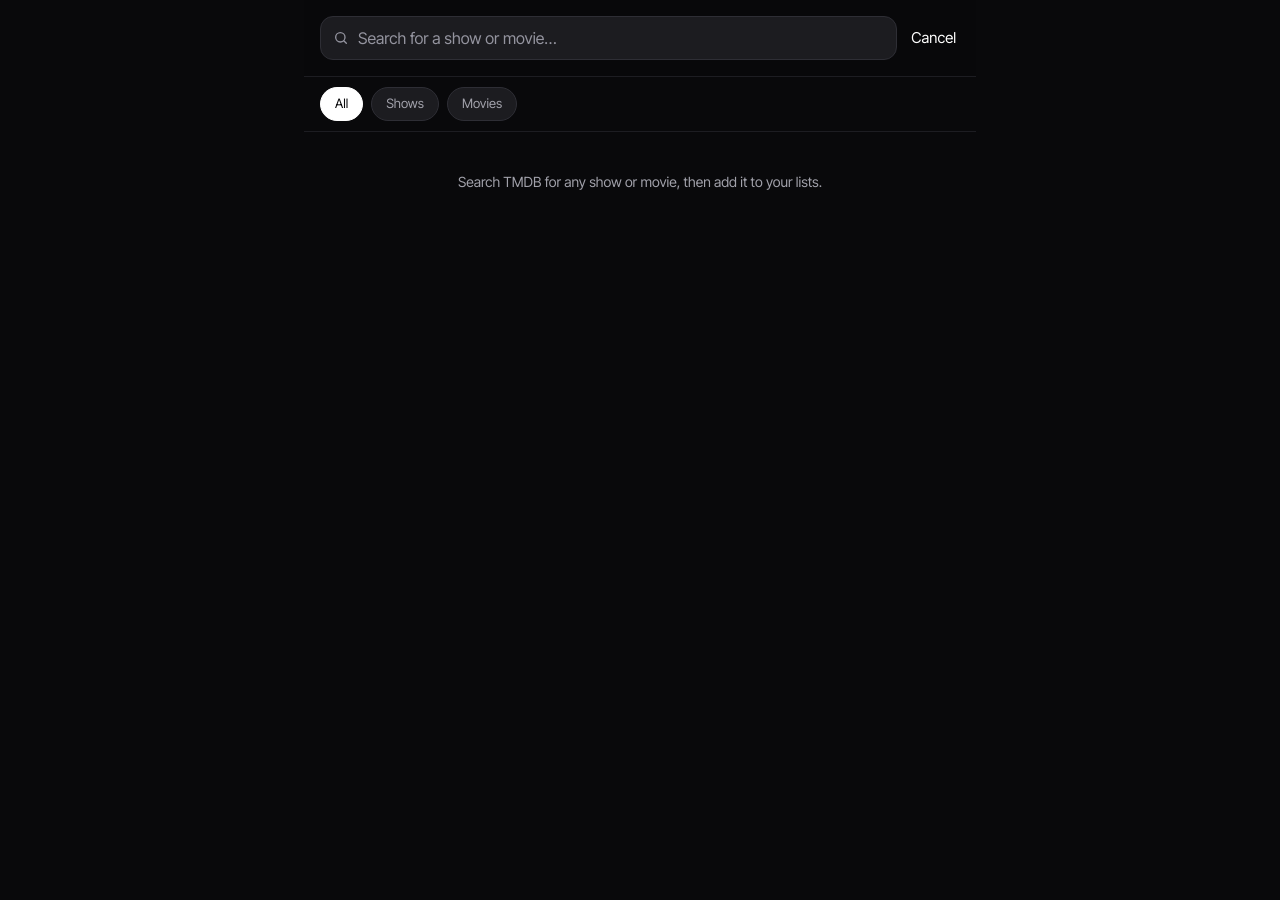
Test: the field › offers a way to clear itself only once there is something to clear
Type "sev" into the field named "Search query". click: point(621, 38)
box: [358,26,884,50]
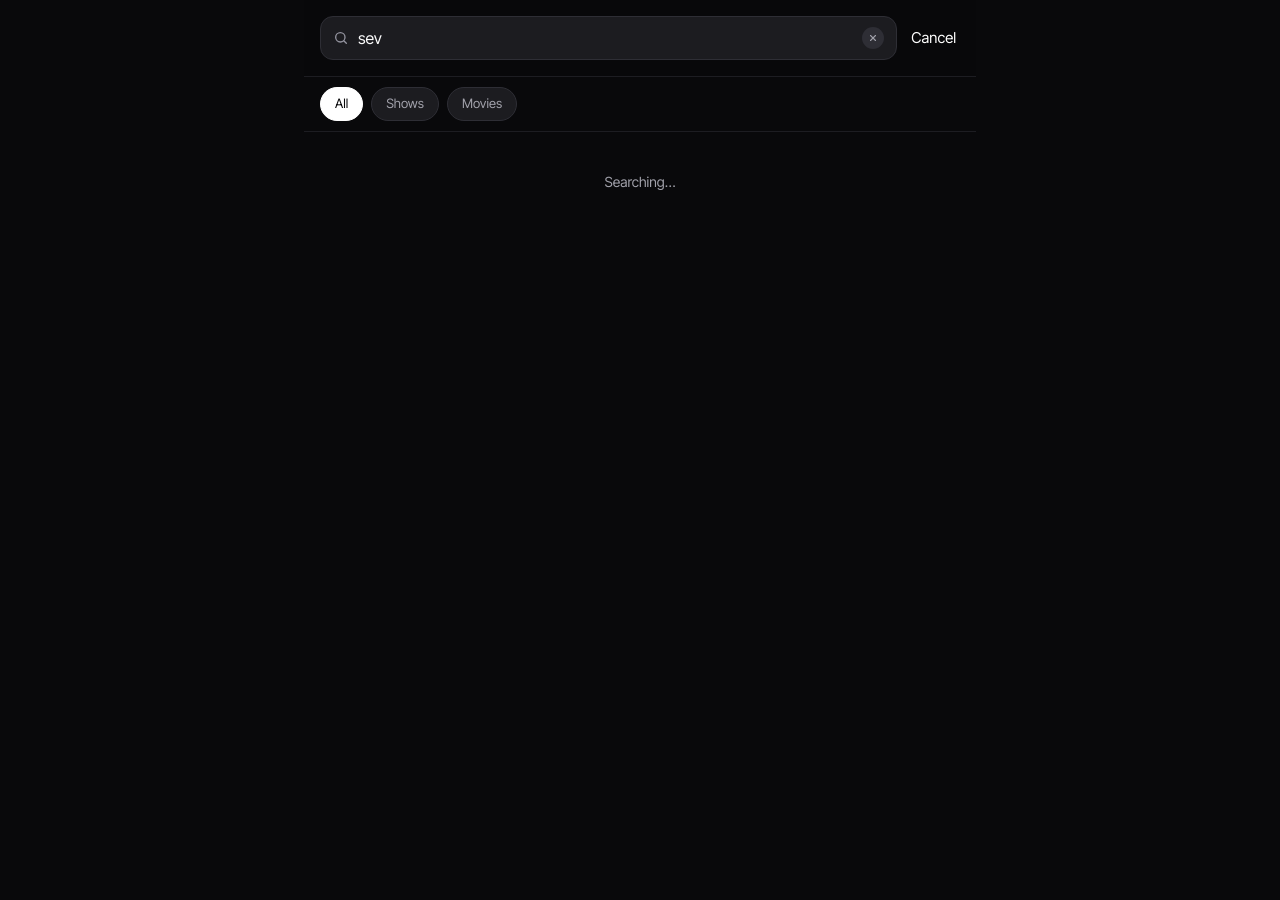
Click the button named "Clear search". click: point(873, 38)
box: [862,27,884,49]
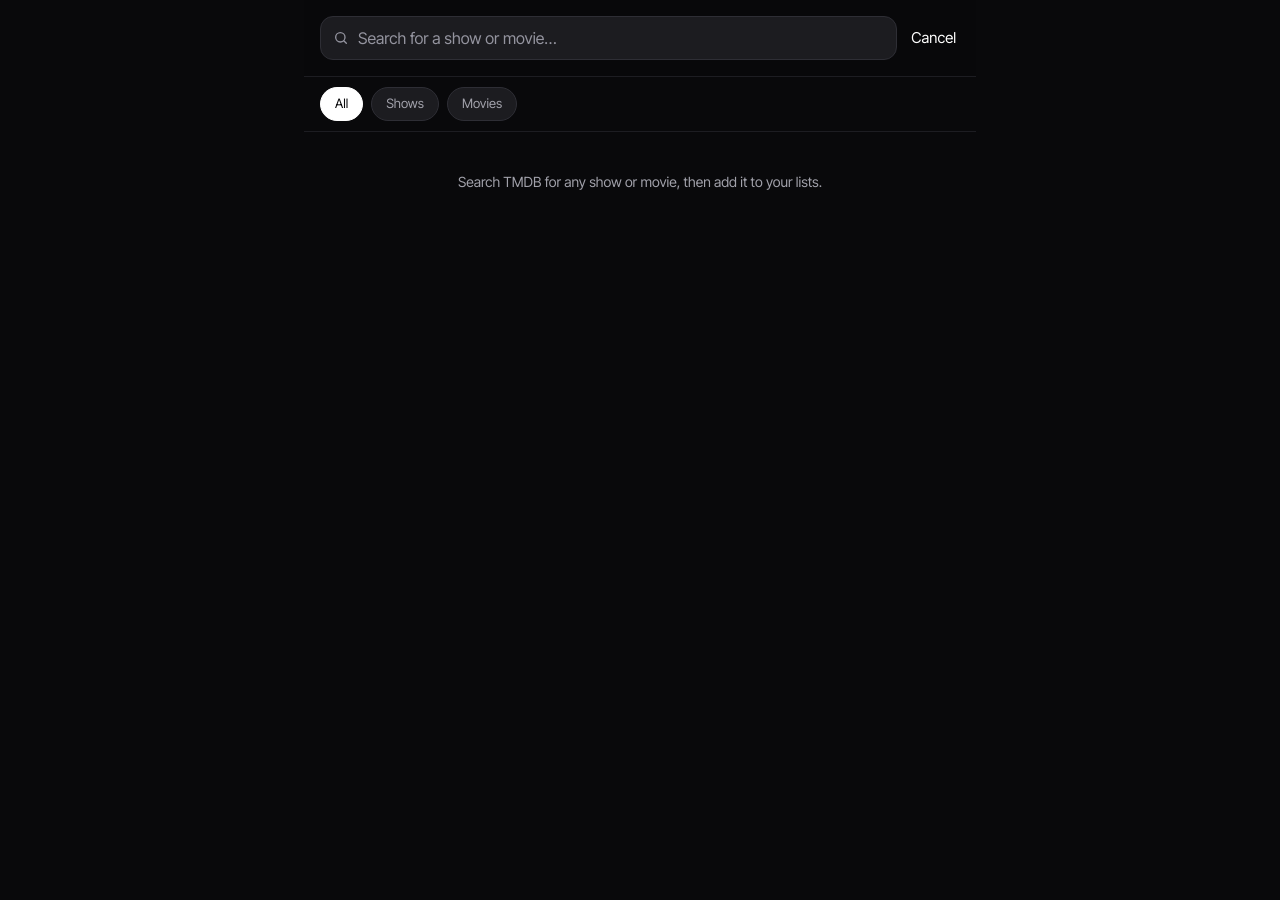
Check: the field named "Search query" is empty, box [358,26,884,50]
